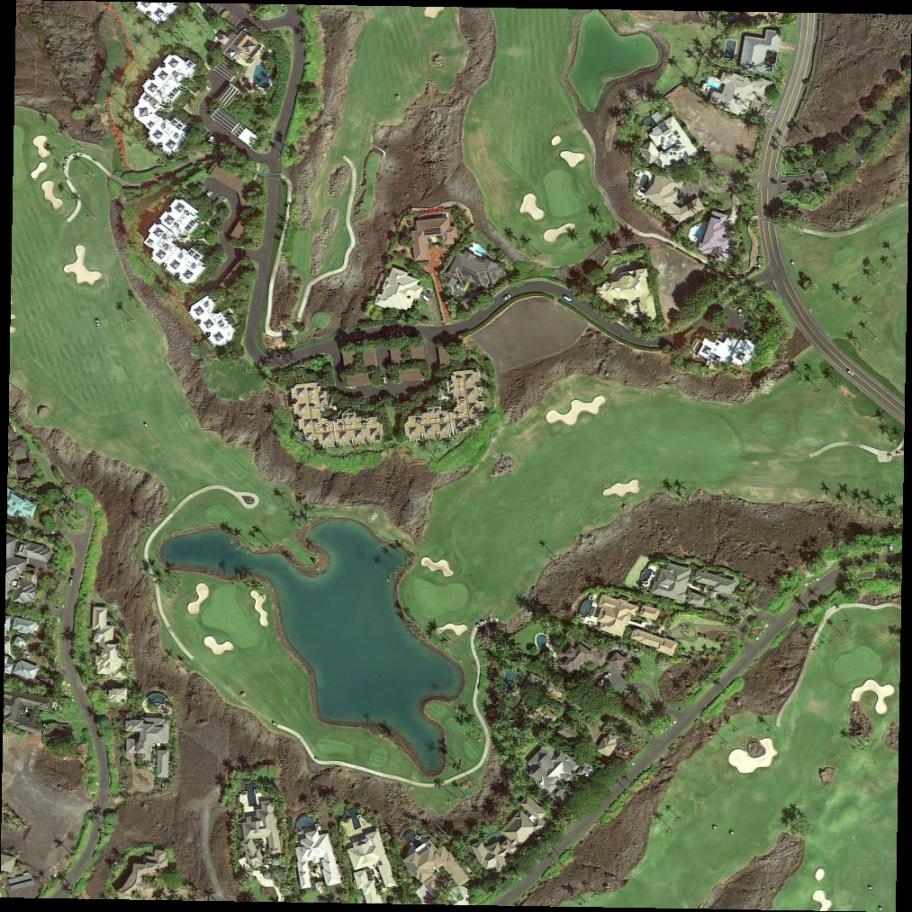small-vehicle: (420, 293, 431, 304), (602, 670, 613, 680), (203, 190, 213, 200), (502, 293, 513, 302), (94, 319, 103, 330), (426, 289, 434, 300), (206, 135, 215, 144), (563, 295, 573, 302), (847, 369, 855, 377), (889, 543, 895, 553), (68, 578, 74, 587), (71, 569, 77, 577)
